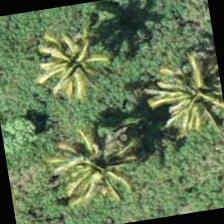Kelapa_Sawit: (44, 111, 148, 214), (21, 5, 124, 108), (141, 41, 223, 143)
